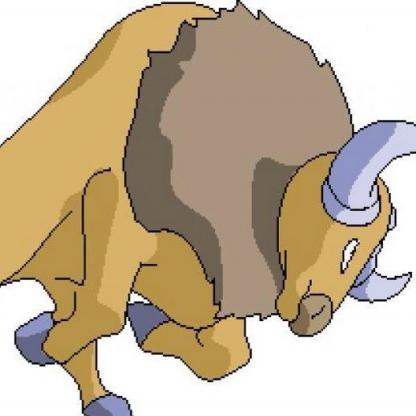Tauros: (1, 1, 414, 416)
